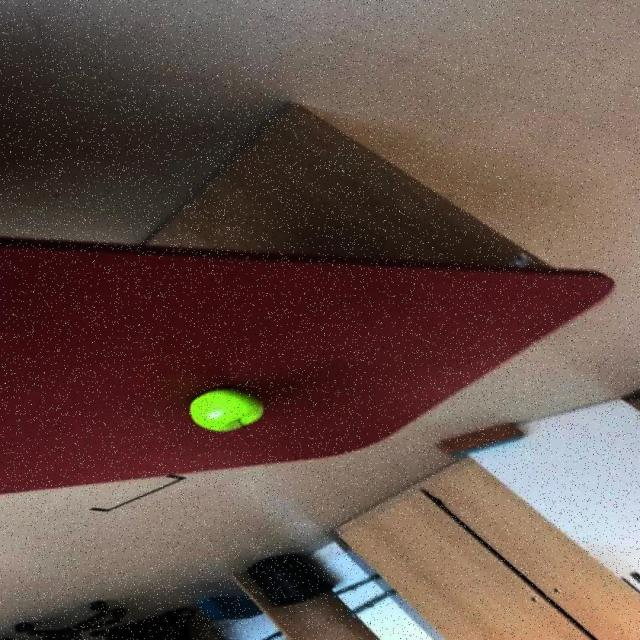Apple: (186, 387, 264, 433)
